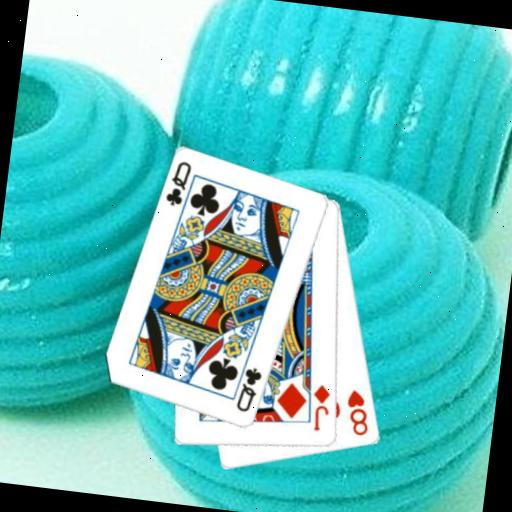8H: (340, 385, 375, 439)
JD: (306, 381, 334, 434)
QC: (233, 363, 265, 416), (162, 157, 194, 210)
